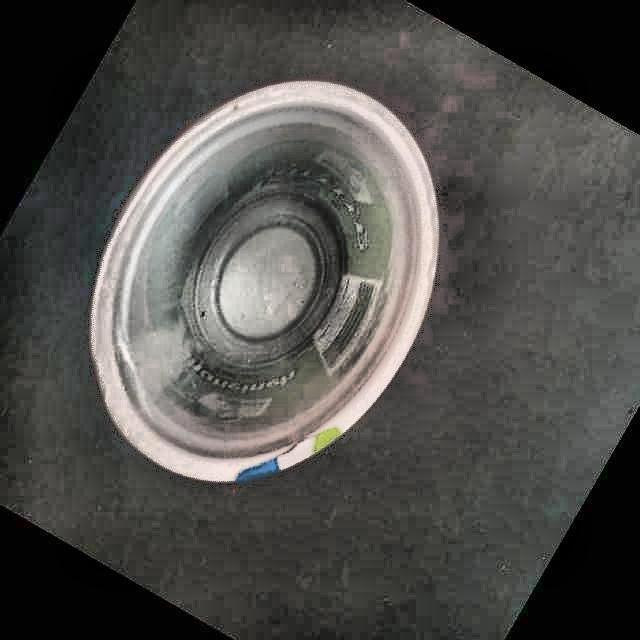plastic: (90, 81, 439, 482)
